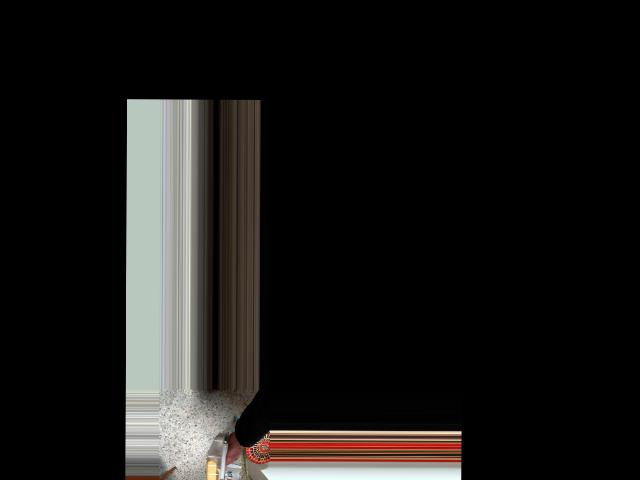cheese: (199, 436, 240, 480)
